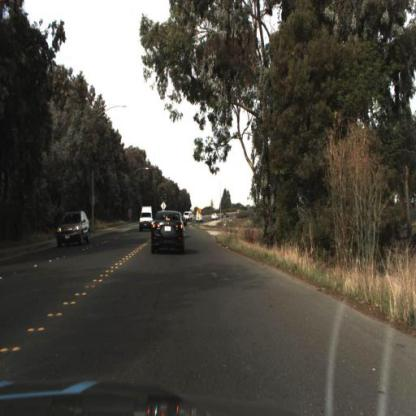car: (149, 210, 187, 258), (57, 210, 93, 250), (138, 201, 155, 232)
truck: (139, 204, 155, 232)
